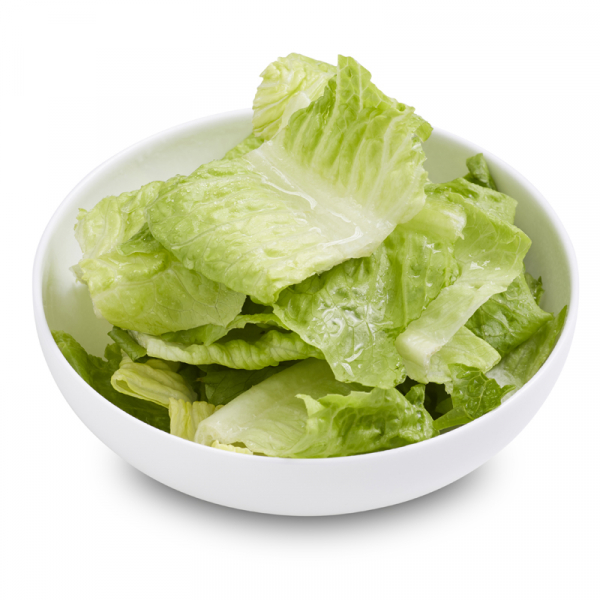chopped lettuce: (172, 169, 513, 386)
